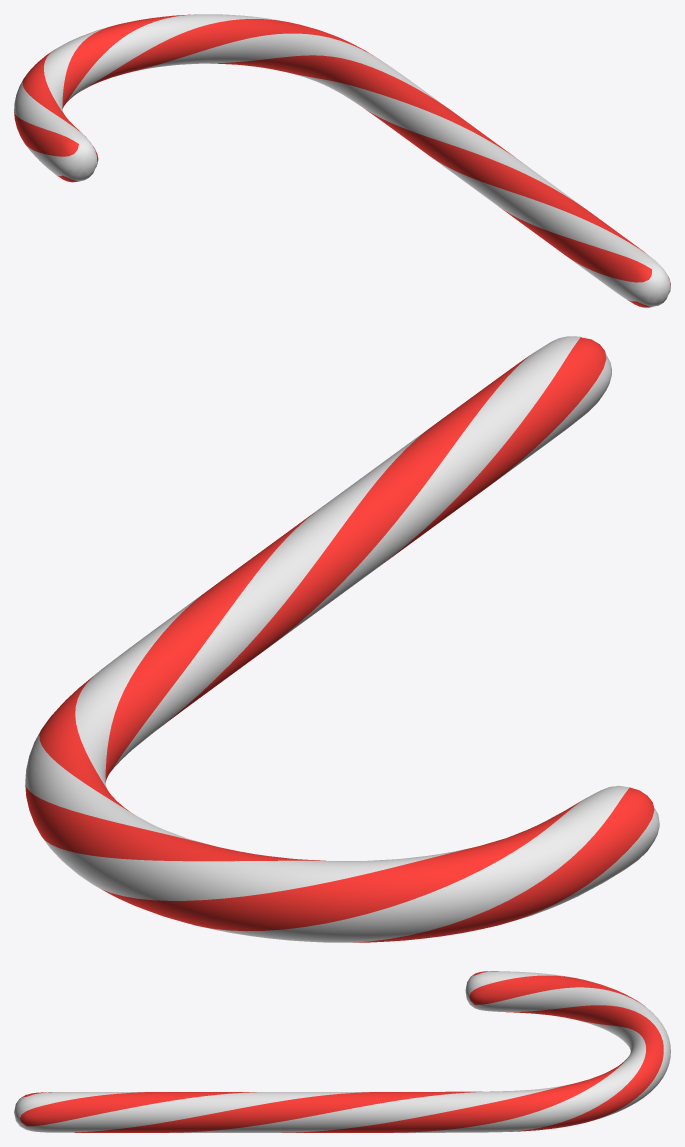
The model's file is CandyCane.fbx.
The picture shows the model from 3 angles, top to bottom: view 1: azimuth 30°, elevation 25°; view 2: azimuth 150°, elevation 25°; view 3: azimuth 270°, elevation 25°; orthographic projection. The views are drawn at different scales.
Parts seen in each view (by area): view 1: CandyCane; view 2: CandyCane; view 3: CandyCane.
Boxes of the visible parts, x1,y1,x2,y2 form: CandyCane: (14, 14, 670, 307); CandyCane: (25, 336, 659, 942); CandyCane: (14, 971, 670, 1132).
Size of the model in its own units: 145 by 18.25 by 292.
